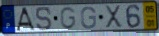6: (124, 3, 141, 29)
A: (15, 7, 37, 31)
G: (59, 6, 77, 31), (80, 6, 98, 30)
S: (35, 6, 54, 32)
X: (104, 4, 123, 29)
